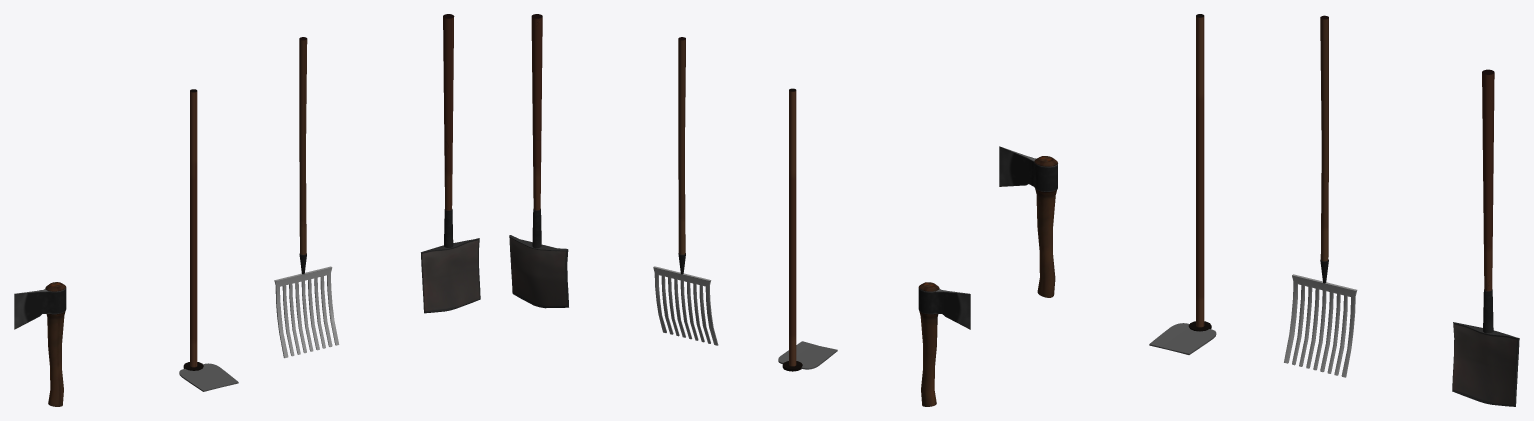
The model's file is Ferramentas.fbx.
The picture shows the model from 3 angles, left to right: view 1: azimuth 30°, elevation 25°; view 2: azimuth 150°, elevation 25°; view 3: azimuth 330°, elevation 25°; orthographic projection. The views are drawn at different scales.
Visible parts, largest first — view 1: Pa, Ancinho, Enxada, Machado; view 2: Pa, Ancinho, Enxada, Machado; view 3: Pa, Ancinho, Enxada, Machado.
Part boxes in pixels (x1,y1,x2,y2): Pa: [421, 14, 480, 313]; Ancinho: [274, 37, 339, 358]; Enxada: [179, 89, 238, 391]; Machado: [14, 282, 66, 406]; Pa: [509, 14, 568, 308]; Ancinho: [653, 37, 718, 345]; Enxada: [778, 88, 837, 371]; Machado: [918, 282, 970, 406]; Pa: [1452, 69, 1519, 406]; Ancinho: [1284, 15, 1357, 377]; Enxada: [1149, 14, 1216, 354]; Machado: [999, 146, 1057, 297].
Size of the model in its own units: 206 by 131 by 25.15.
